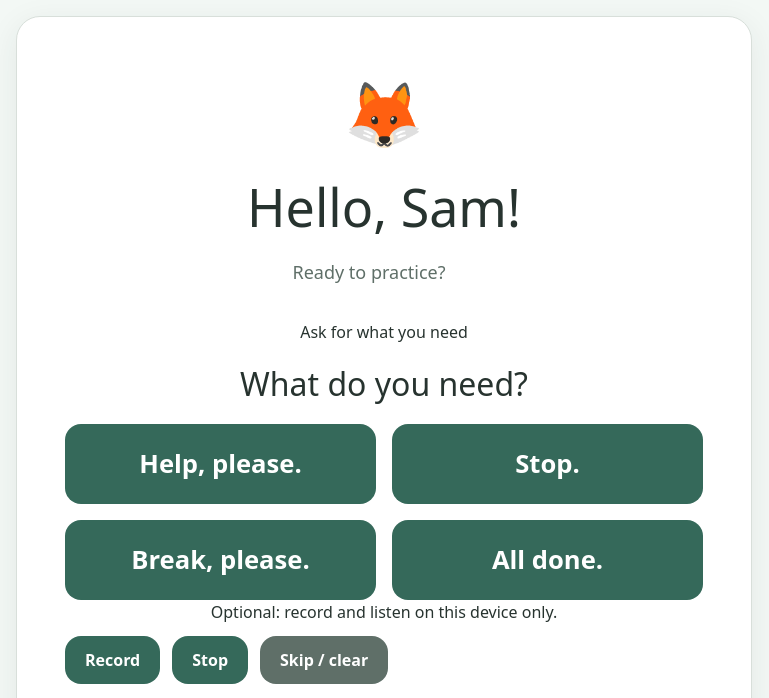
Test: child independent practice › honors Stop. immediately without penalties
Click the button "Stop.": (548, 464) [392,424,703,504]
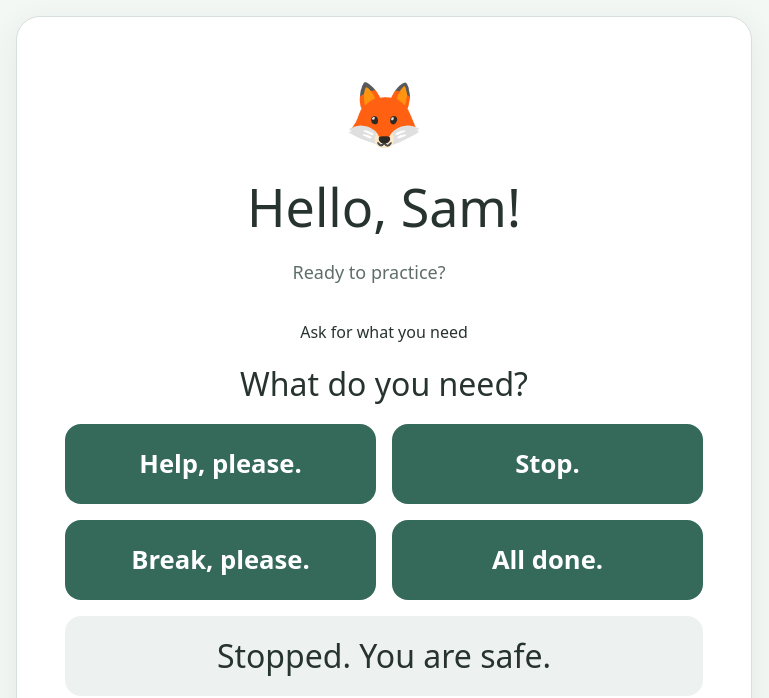
Expected: the message reads "Stopped. You are safe.", [217,634,551,677]
